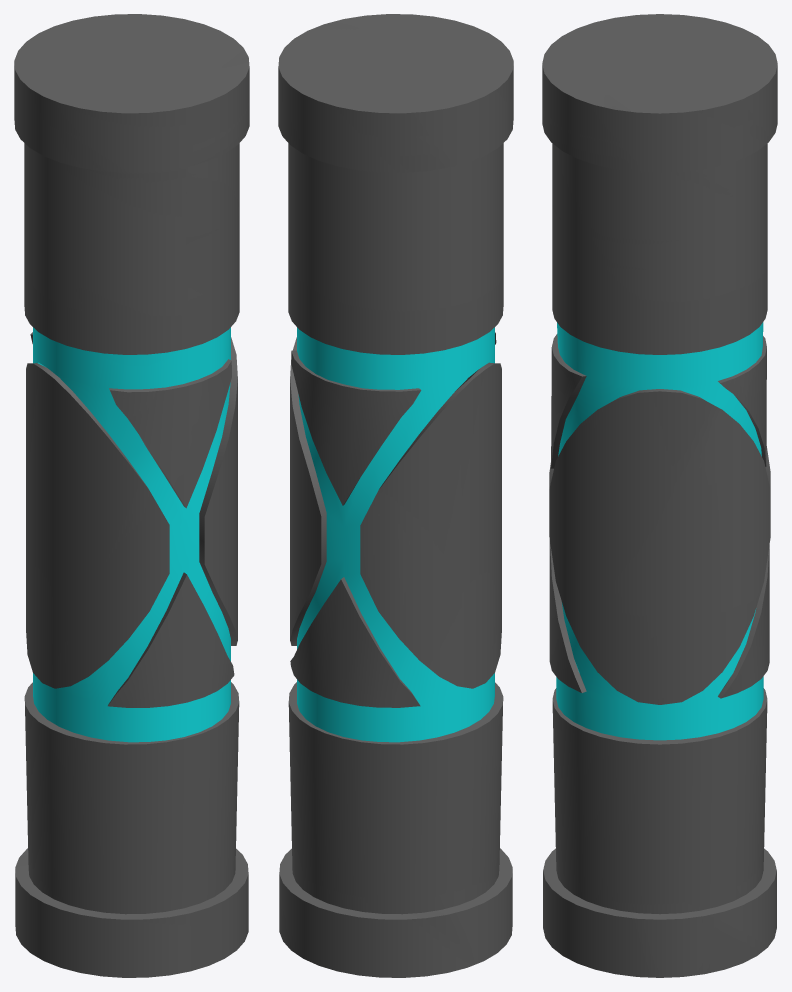
File: Pillar.fbx
3 renders of one model, left to right at view 1: azimuth 30°, elevation 25°; view 2: azimuth 150°, elevation 25°; view 3: azimuth 270°, elevation 25°, orthographic.
Parts seen in each view (by area): view 1: pillar, glowing substance; view 2: pillar, glowing substance; view 3: pillar, glowing substance.
Part boxes in pixels (x1=…): pillar: x1=14, y1=14, x2=249, y2=977; glowing substance: x1=33, y1=327, x2=230, y2=742; pillar: x1=278, y1=14, x2=513, y2=977; glowing substance: x1=297, y1=327, x2=494, y2=742; pillar: x1=542, y1=14, x2=777, y2=977; glowing substance: x1=556, y1=322, x2=763, y2=740.
Size of the model in its own units: 380 by 1541 by 380.
2 materials, 2 textured.
